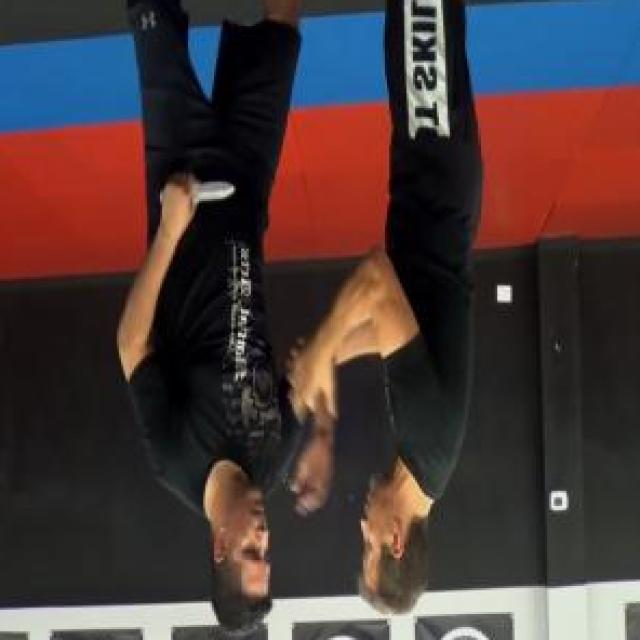knife: (158, 170, 240, 210)
